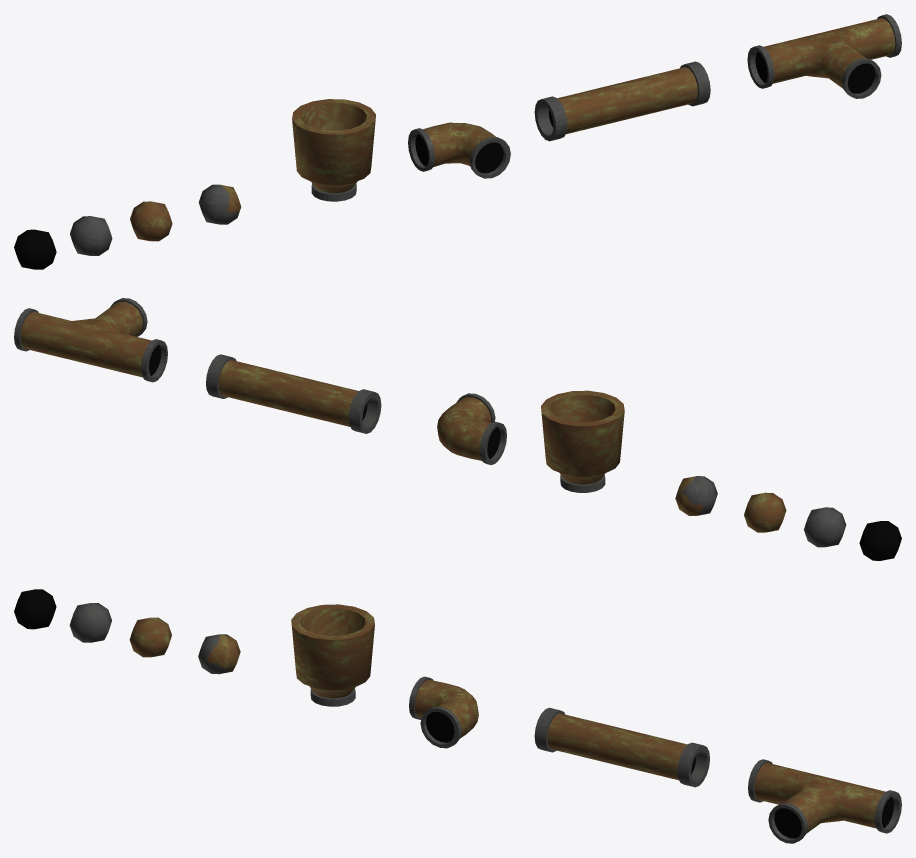
File: Pipe.fbx
3 views of the same model, one above another, from view 1: azimuth 30°, elevation 25°; view 2: azimuth 150°, elevation 25°; view 3: azimuth 330°, elevation 25° (orthographic).
Parts seen in each view (by area): view 1: Pipe_3, Gaspipe, Pipe_1, Pipe_2, Marble_2, Marble_1, Marble_4, Marble_3; view 2: Pipe_3, Gaspipe, Pipe_1, Pipe_2, Marble_3, Marble_2, Marble_4, Marble_1; view 3: Pipe_3, Gaspipe, Pipe_1, Pipe_2, Marble_4, Marble_2, Marble_1, Marble_3.
Part boxes in pixels (x1,y1,x2,y2): Pipe_3: [747, 14, 901, 98]; Gaspipe: [292, 99, 375, 201]; Pipe_1: [534, 61, 710, 141]; Pipe_2: [408, 122, 510, 178]; Marble_2: [130, 201, 172, 241]; Marble_1: [198, 184, 241, 224]; Marble_4: [14, 229, 56, 269]; Marble_3: [70, 216, 112, 255]; Pipe_3: [14, 298, 167, 382]; Gaspipe: [541, 390, 624, 492]; Pipe_1: [206, 354, 381, 433]; Pipe_2: [437, 393, 506, 465]; Marble_3: [804, 507, 846, 547]; Marble_2: [744, 492, 786, 532]; Marble_4: [859, 521, 901, 560]; Marble_1: [675, 476, 717, 515]; Pipe_3: [748, 759, 901, 843]; Gaspipe: [291, 604, 374, 706]; Pipe_1: [534, 707, 709, 787]; Pipe_2: [409, 676, 478, 748]; Marble_4: [14, 589, 56, 629]; Marble_2: [129, 617, 171, 657]; Marble_1: [198, 634, 240, 674]; Marble_3: [69, 603, 111, 642].
Bounding box in the file's own units: 3.89 × 0.3398 × 0.4482.
